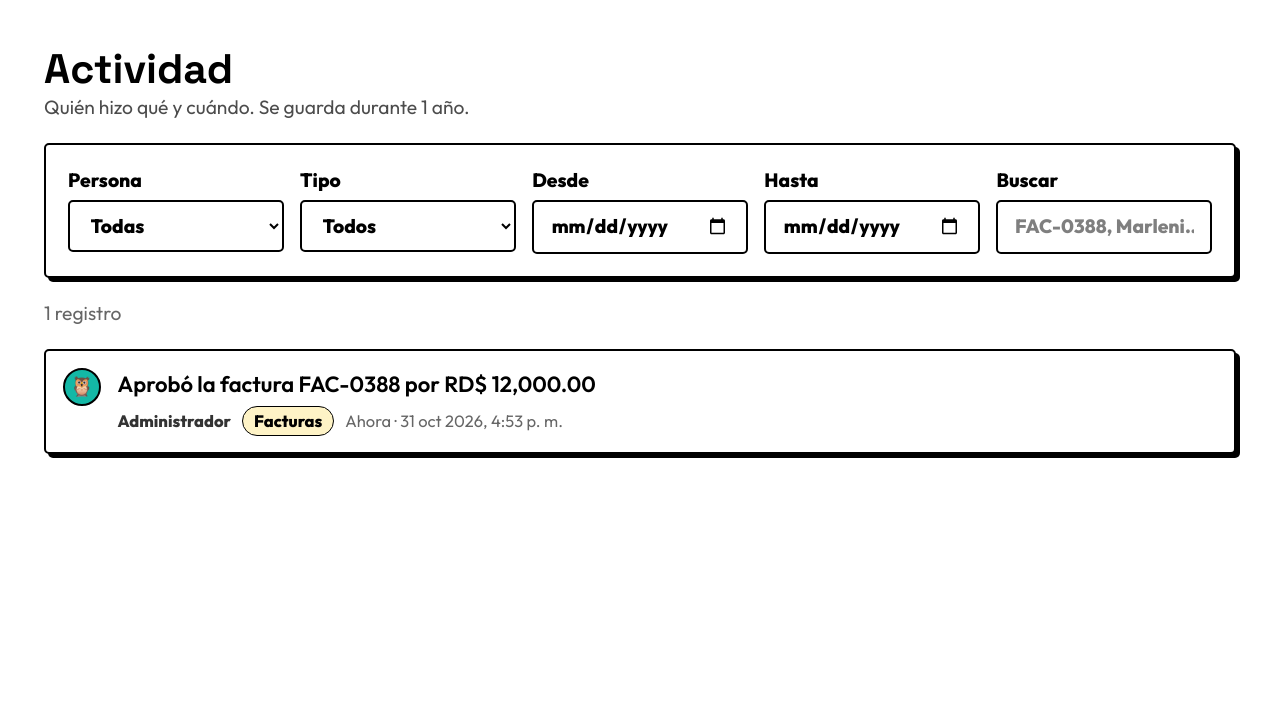
Actividad page › shows details when an entry is clicked
This screenshot has width=1280, height=720.
Click the text "Aprobó la factura FAC-0388 por RD$ 12,000.00".
click(357, 384)  # box x1=118 y1=370 x2=596 y2=398
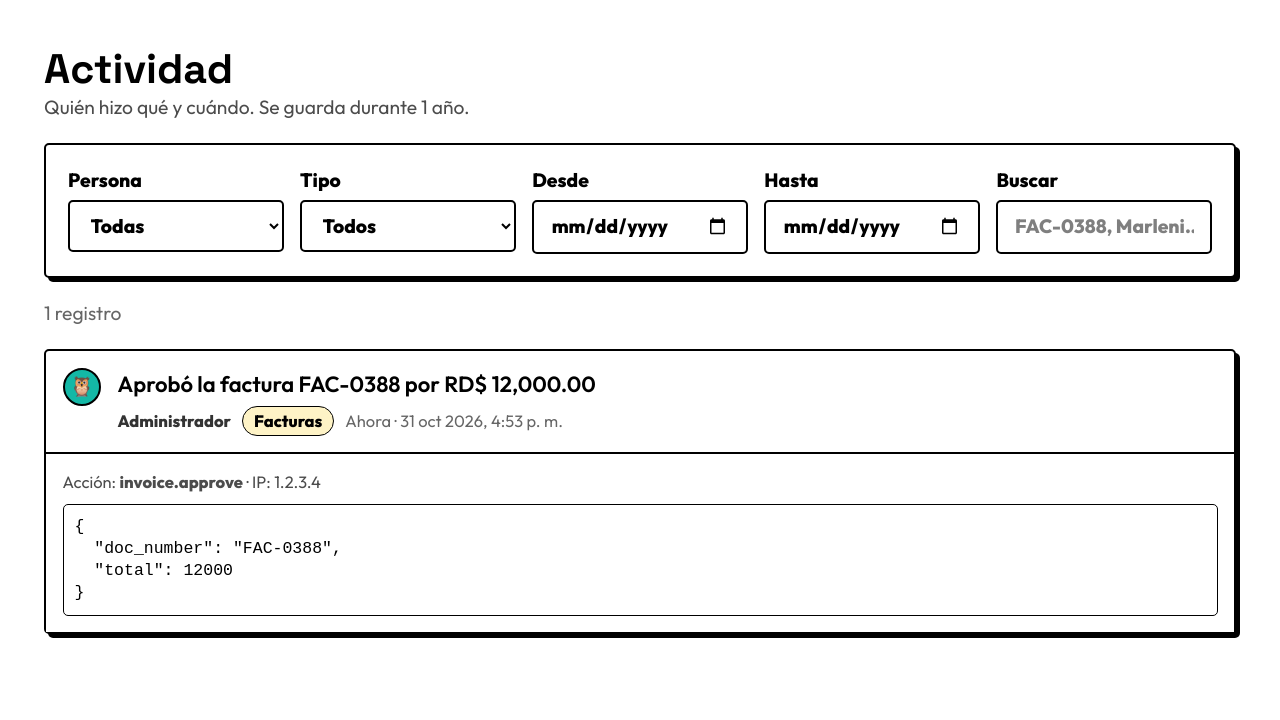
Expected: the text "{ \"doc_number\": \"FAC-0388\", \"total\": 12000 }" is shown, x1=62 y1=504 x2=1218 y2=616
